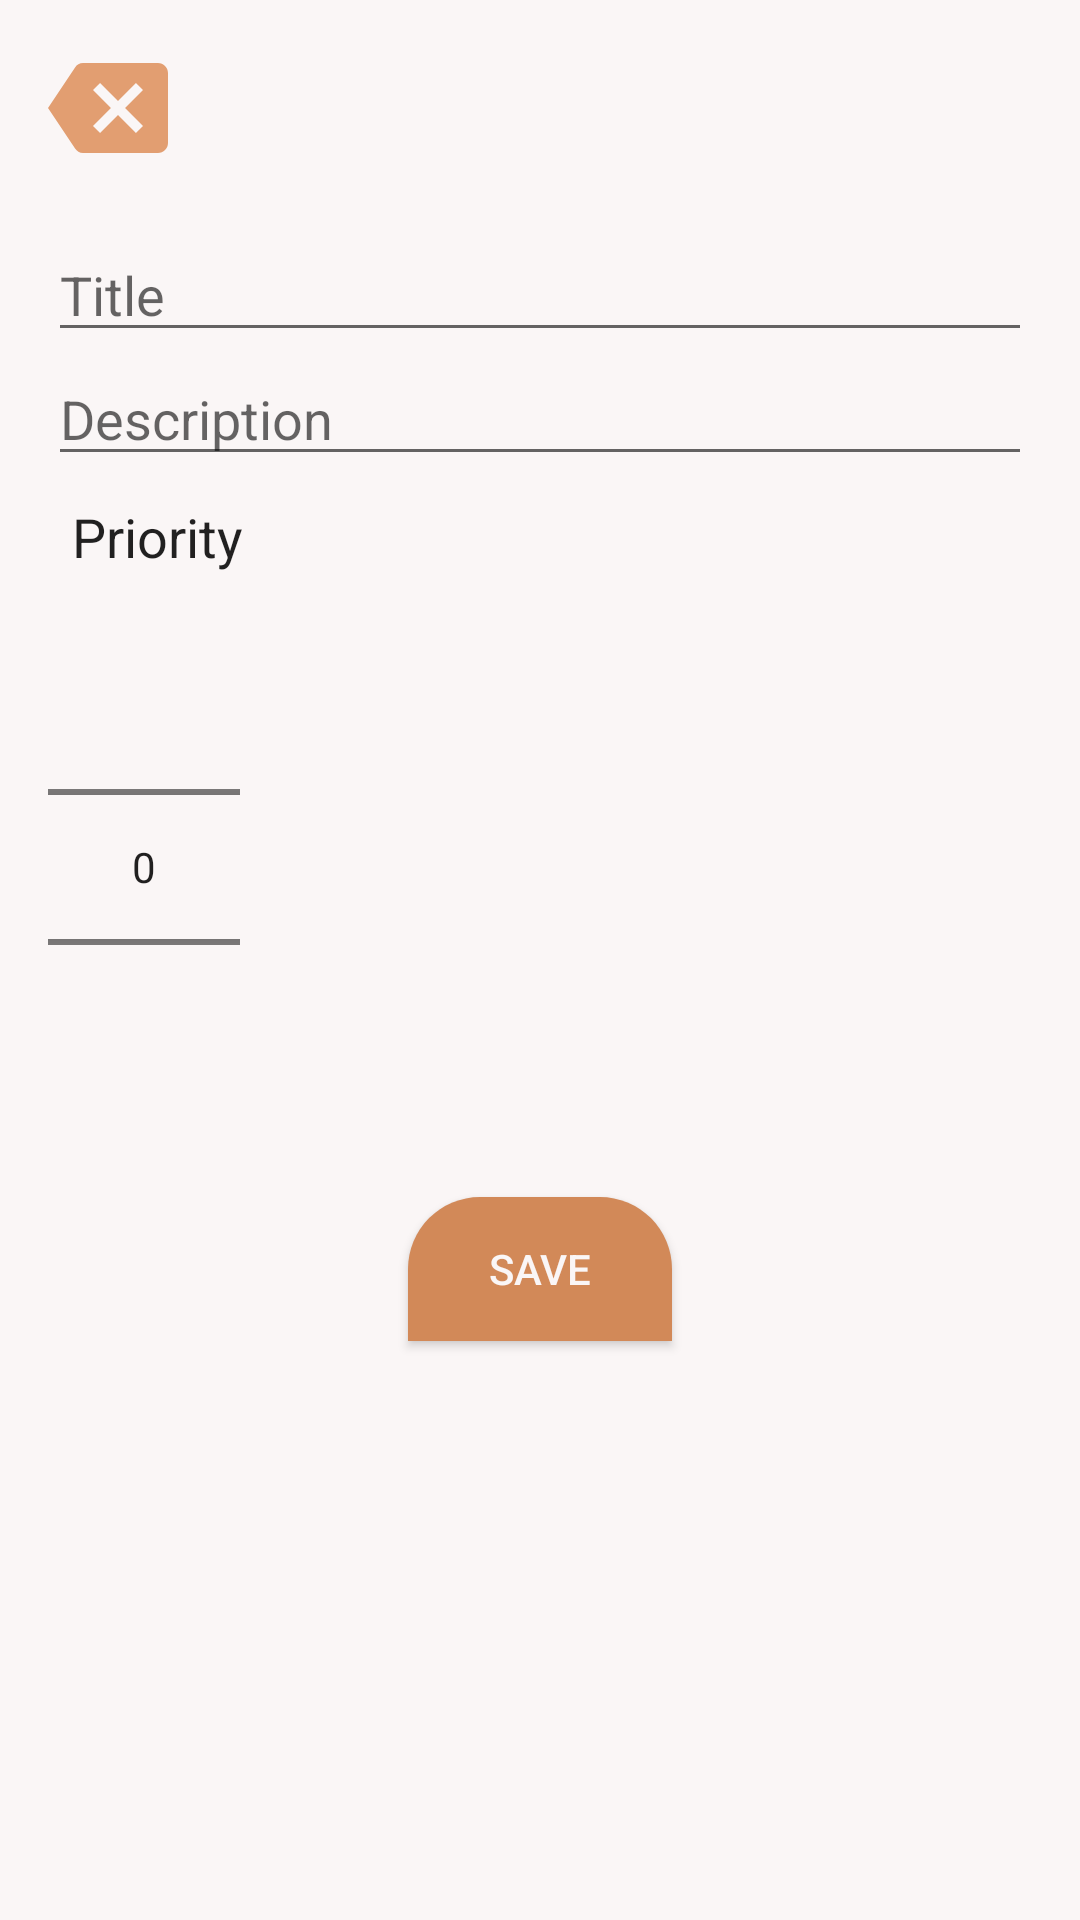

Named icons in this screenshot (1080 × 1920) and their bounding boxes, detection(x1, y1, x2, y2):
backspace: detection(48, 63, 168, 153)
